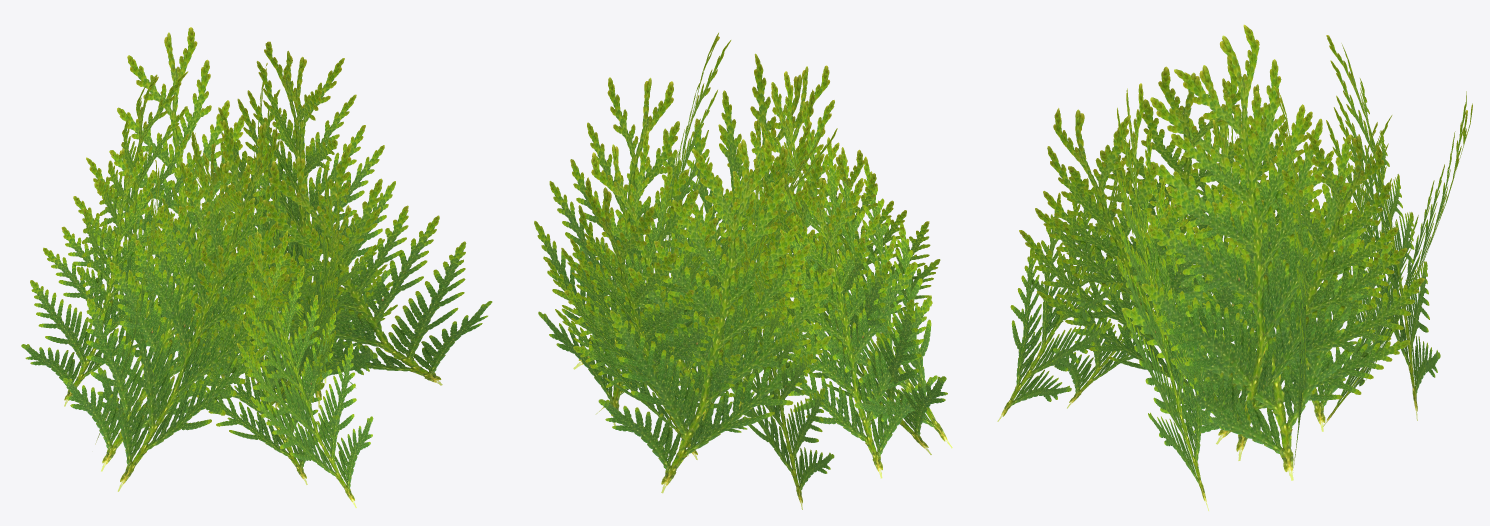
The model's file is bush_02.glb.
3 views of the same model, side by side, from view 1: azimuth 30°, elevation 25°; view 2: azimuth 150°, elevation 25°; view 3: azimuth 270°, elevation 25° (orthographic). The views are drawn at different scales.
Parts seen in each view (by area): view 1: env; view 2: env; view 3: env.
Part boxes in pixels (<box>): env: <box>21,27,492,507</box>; env: <box>534,32,952,509</box>; env: <box>997,24,1472,510</box>.
Size of the model in its own units: 1.09 by 1 by 1.03.
1 material, 1 textured.
